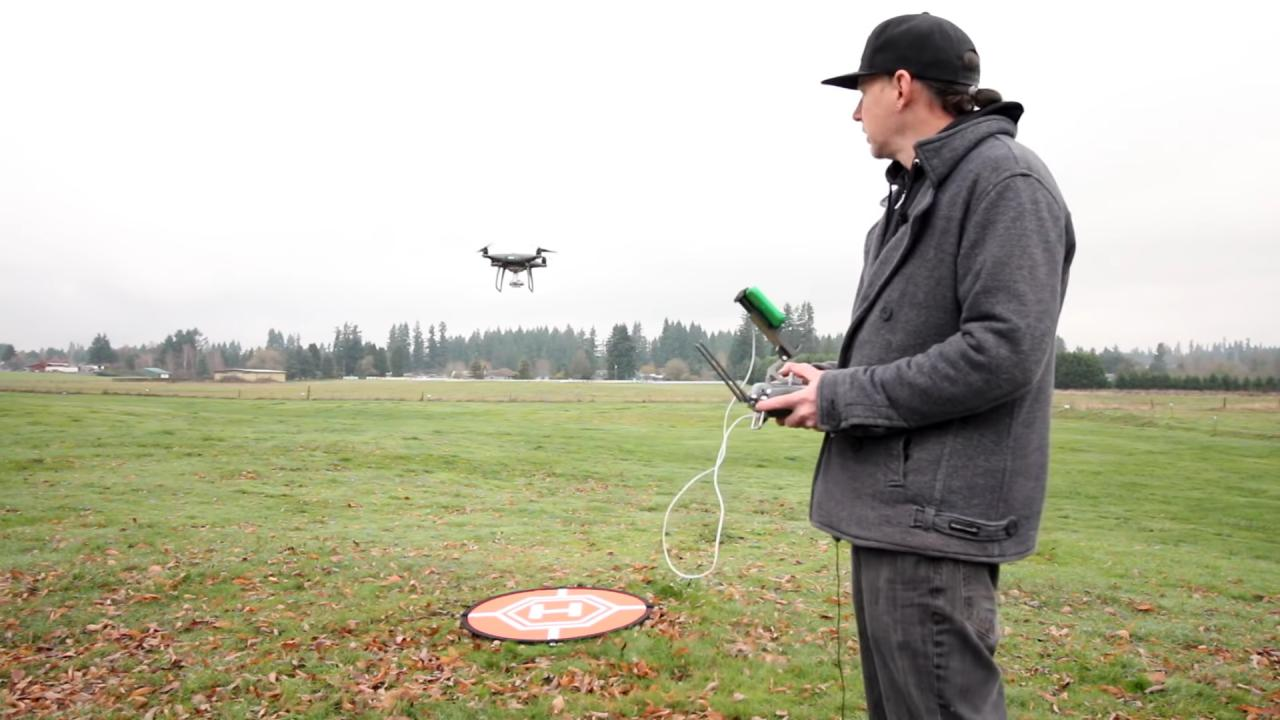Drone: (469, 234, 566, 298)
